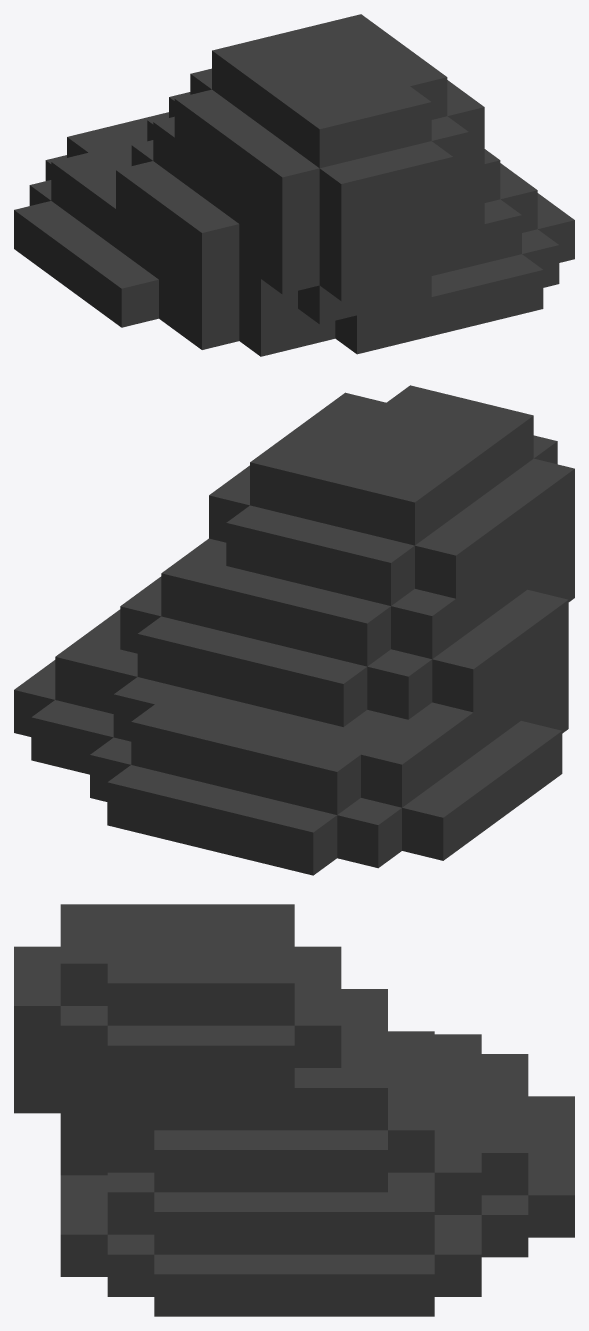
File: stone_norm_04.obj
The picture shows the model from 3 angles, top to bottom: view 1: azimuth 30°, elevation 25°; view 2: azimuth 150°, elevation 25°; view 3: azimuth 270°, elevation 25°; orthographic projection. The views are drawn at different scales.
Bounding box in the file's own units: 1.1 × 0.6 × 1.2.
1 material, 1 textured.
